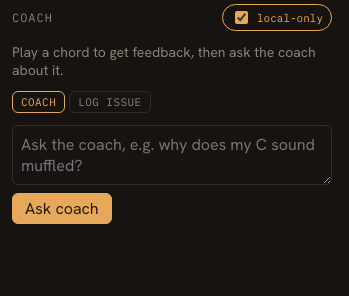
Scenario: CoachColumn — log issue mode (field-testing debug logger) › clear empties the log after confirm, and hides the actions again
Click the tab with test id "coach-tab-log" at (110, 102), box [69,91,151,113]
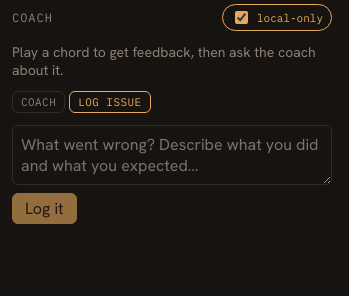
Replace the text in the text box with placeholder "What went wrong" with "note one" at (172, 155), box [12,125,332,185]
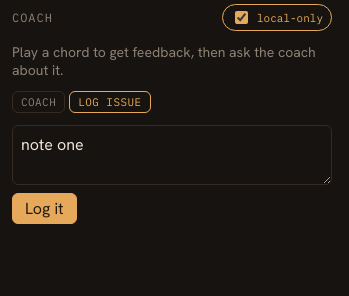
Click the button with test id "debug-log-submit" at (44, 208), box [12,193,76,224]
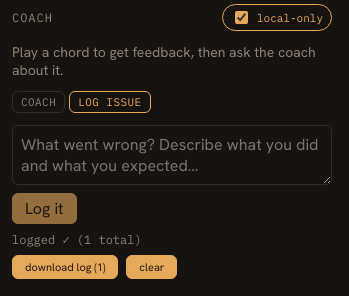
Click the button with test id "debug-log-clear" at (152, 267), box [126,255,177,279]
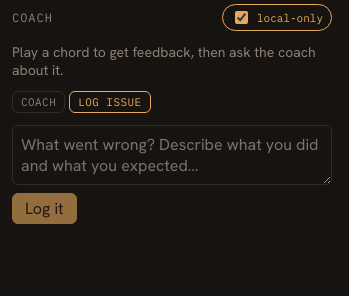
expect the button with test id "debug-log-download" is gone: met
